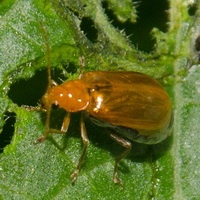insect: (34, 39, 172, 183)
